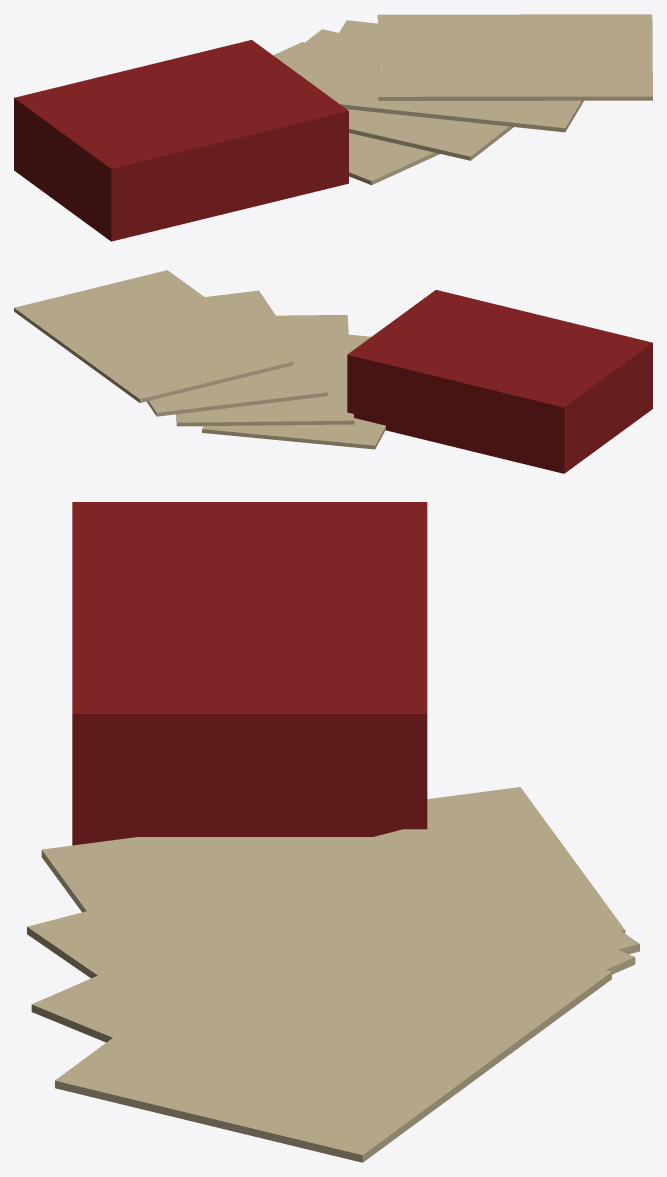
The model's file is TownFind_saloon.glb.
3 renders of one model, top to bottom at view 1: azimuth 30°, elevation 25°; view 2: azimuth 150°, elevation 25°; view 3: azimuth 270°, elevation 25°, orthographic. The views are drawn at different scales.
Visible parts, largest first — view 1: TownFind_saloon.001; view 2: TownFind_saloon.001; view 3: TownFind_saloon.001.
Boxes of the visible parts, left/top/right/bottom form: TownFind_saloon.001: left=14, top=14, right=652, bottom=241; TownFind_saloon.001: left=14, top=270, right=652, bottom=473; TownFind_saloon.001: left=27, top=502, right=639, bottom=1162.
Bounding box in the file's own units: 0.3132 × 0.035 × 0.1467.
